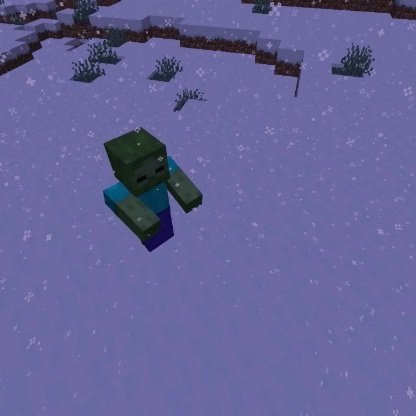zombie: (98, 122, 207, 257)
